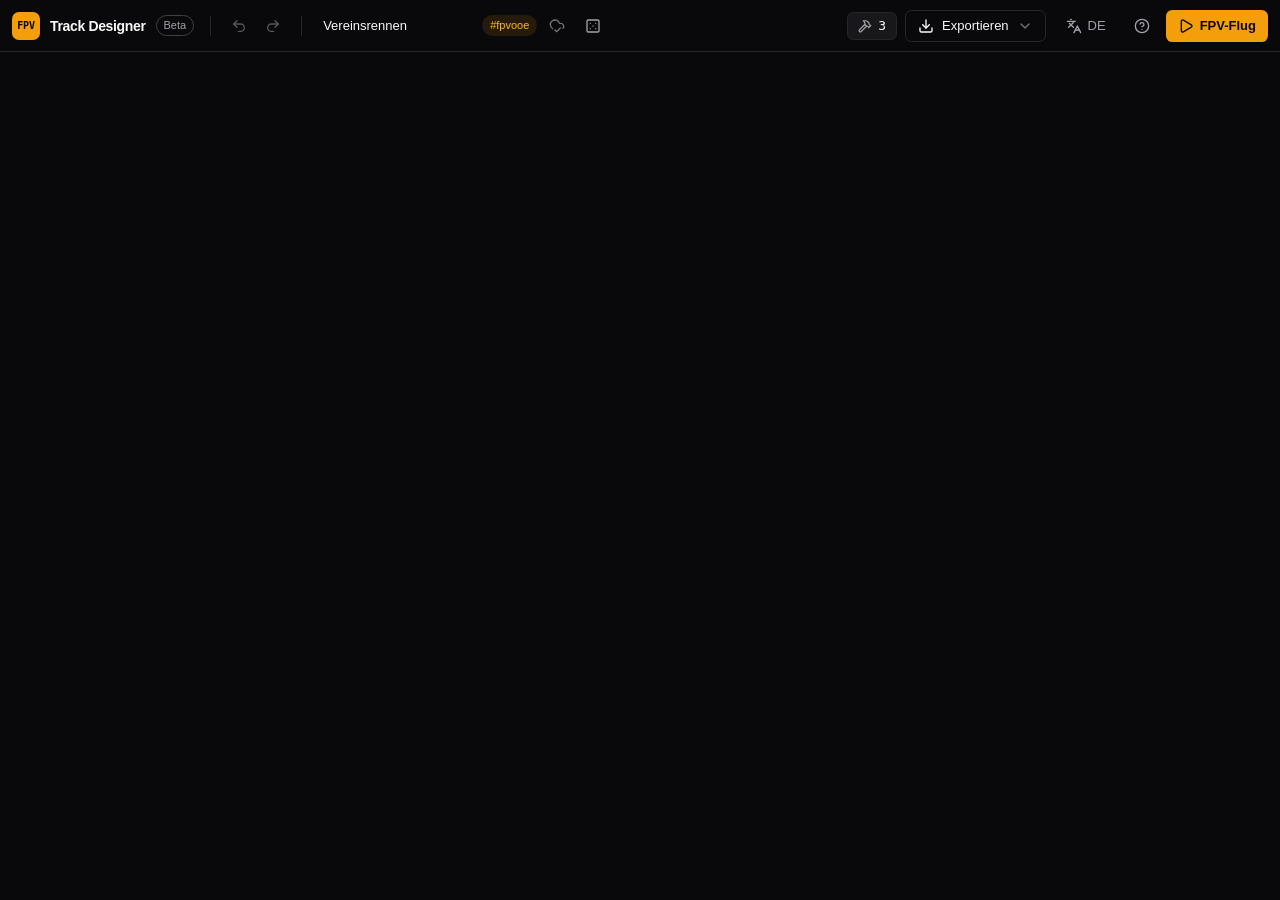
Test: TopBar › offers JSON export and import in the export menu
Click the button "Exportieren" at coordinates (975, 26), box [905, 10, 1046, 42]
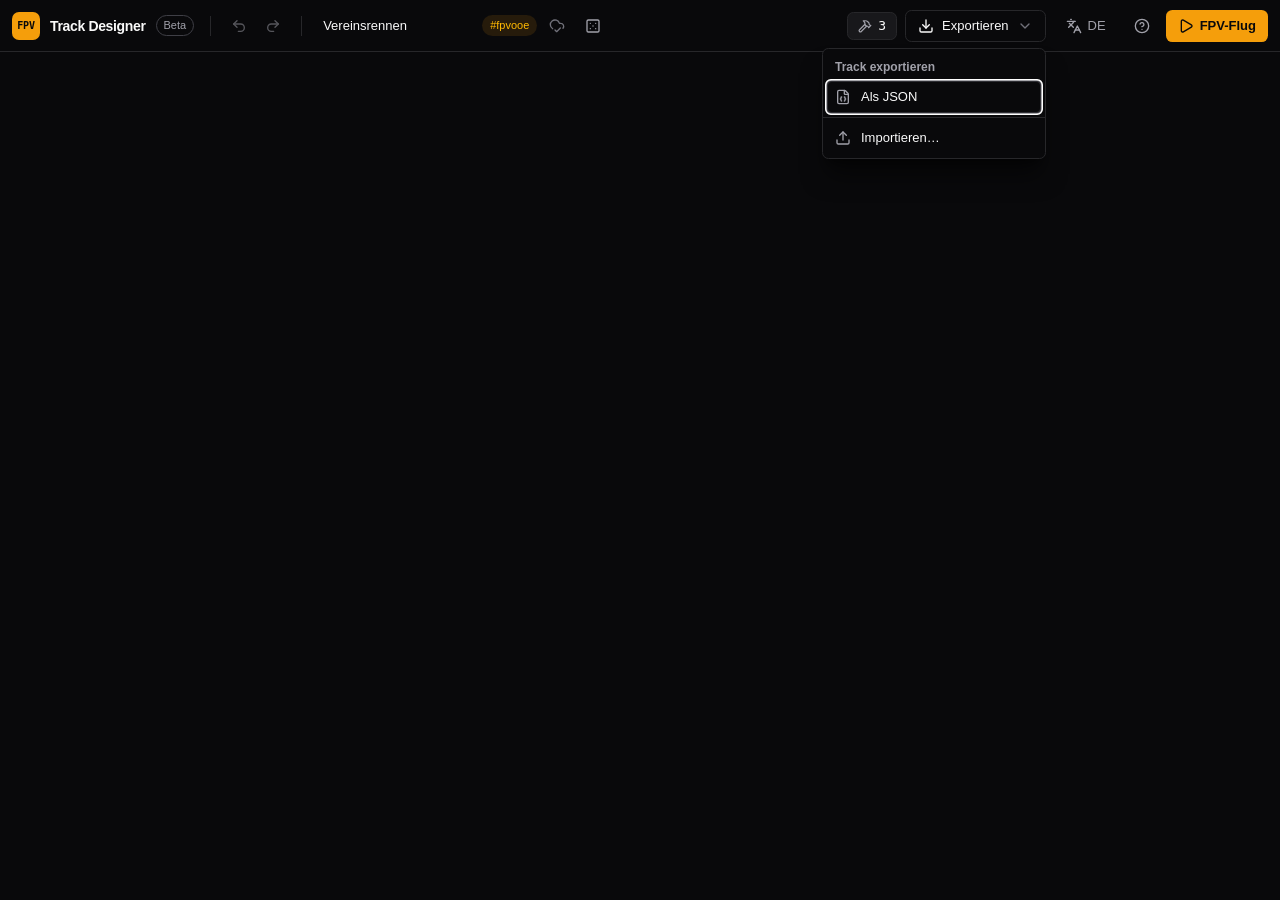
Expected: the button "Als JSON" is shown, [827, 81, 1041, 113]
Expected: the button "Importieren…" is shown, [827, 122, 1041, 154]
